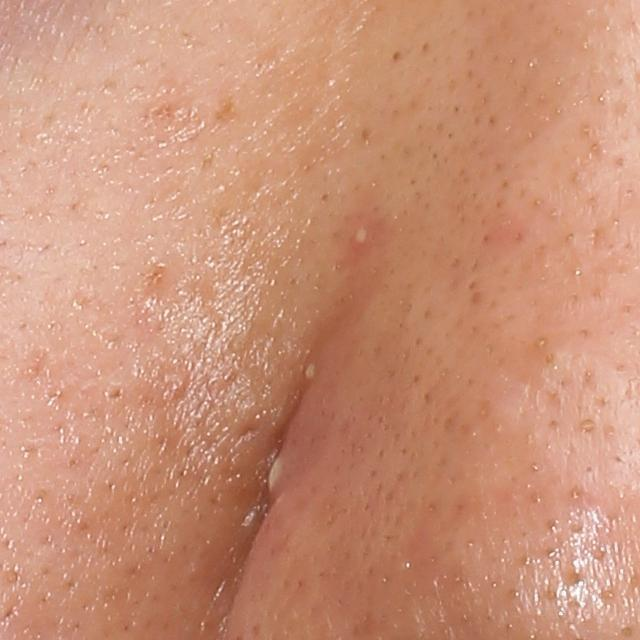comedo: (100, 380, 125, 405), (577, 416, 596, 433)
pustule: (344, 220, 373, 251), (298, 359, 323, 387)
